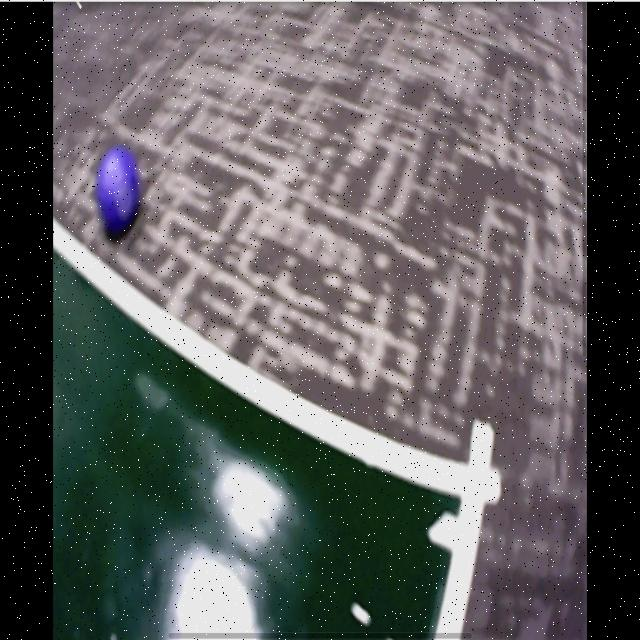ball: (95, 146, 140, 230)
